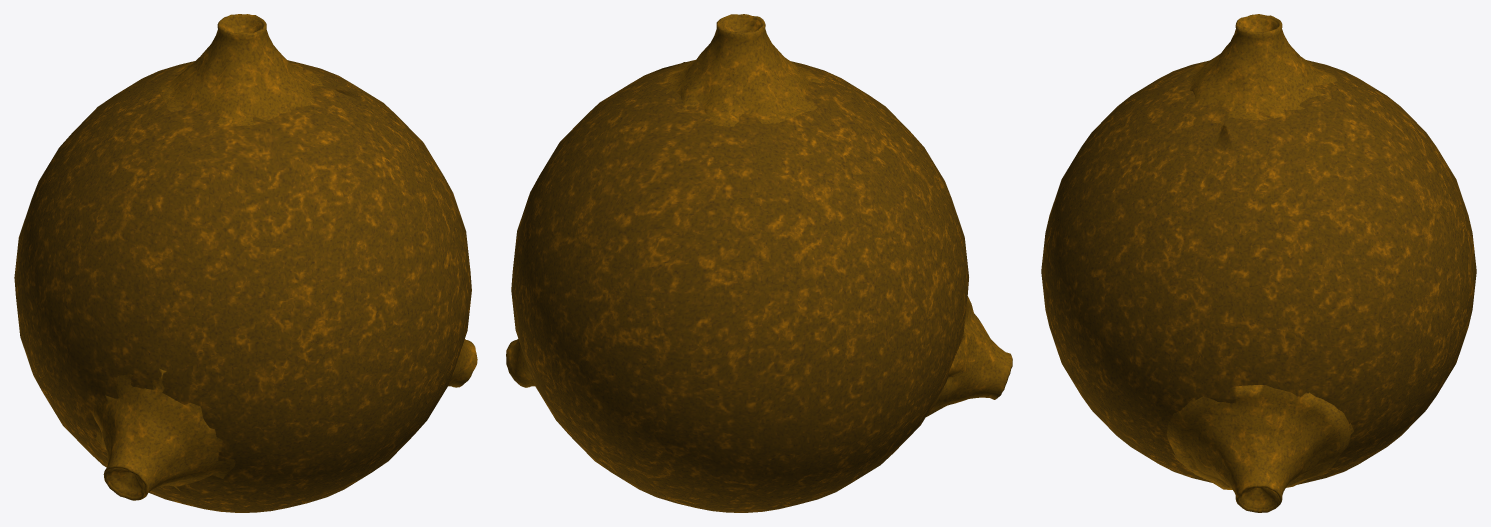
File: Planet_First.fbx
3 views of the same model, side by side, from view 1: azimuth 30°, elevation 25°; view 2: azimuth 150°, elevation 25°; view 3: azimuth 270°, elevation 25° (orthographic). The views are drawn at different scales.
Parts seen in each view (by area): view 1: Cylinder, Cylinder.001; view 2: Cylinder, Cylinder.001; view 3: Cylinder, Cylinder.001.
Part boxes in pixels (x1,y1,x2,y2): Cylinder: [14, 60, 471, 512]; Cylinder.001: [91, 14, 477, 500]; Cylinder: [511, 60, 968, 512]; Cylinder.001: [506, 14, 1012, 416]; Cylinder: [1041, 60, 1476, 484]; Cylinder.001: [1166, 14, 1353, 512].
Bounding box in the file's own units: 1512 × 1569 × 1389.
2 materials, 2 textured.
